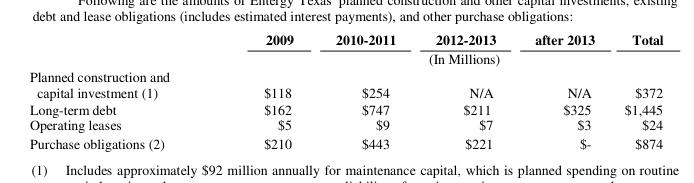table: (28, 29, 662, 151)
table column: (28, 29, 213, 151), (313, 29, 415, 151), (213, 29, 313, 151), (415, 29, 514, 151), (514, 29, 608, 151), (608, 29, 662, 151)
table column header: (28, 29, 662, 66)
table projected row header: (28, 66, 662, 84)
table row: (28, 29, 662, 48), (28, 48, 662, 66), (28, 66, 662, 84), (28, 133, 662, 151), (28, 116, 662, 133), (28, 84, 662, 100), (28, 100, 662, 116)
table spanning cell: (213, 48, 662, 66)
